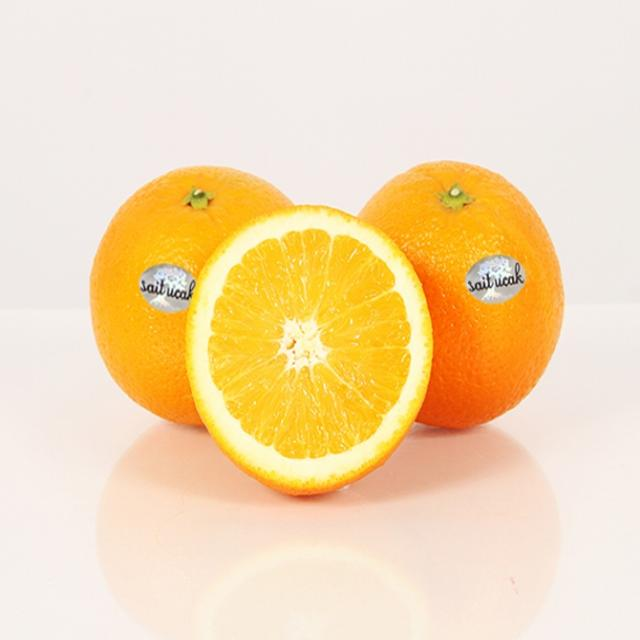orange: (183, 200, 434, 503), (85, 161, 318, 439), (347, 158, 567, 439)
